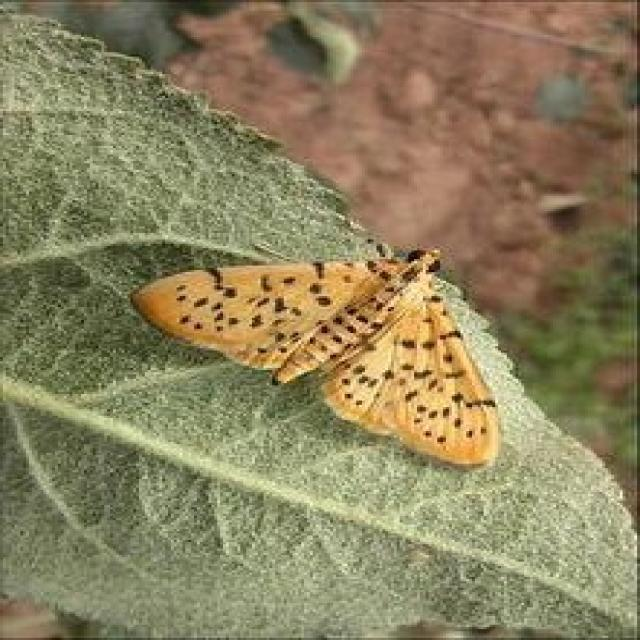peach borer: (127, 239, 501, 474)
